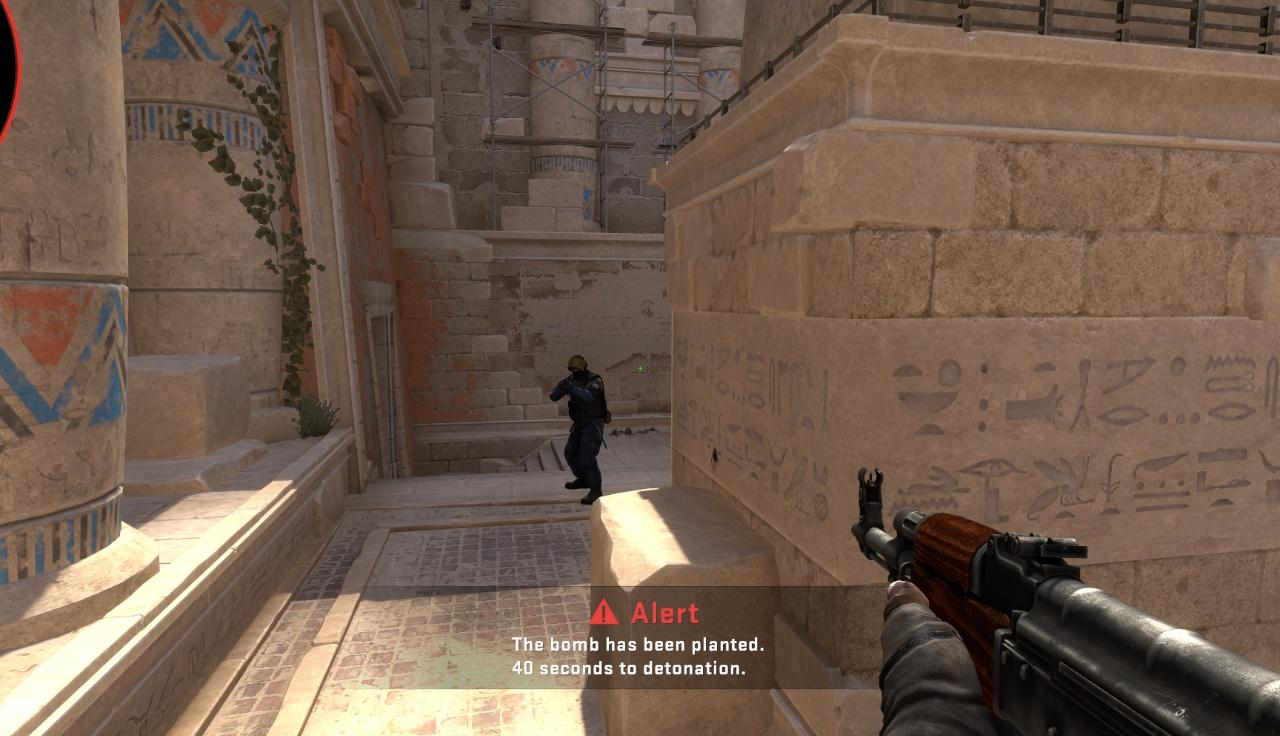ct: (560, 357, 604, 499)
cthead: (568, 355, 587, 379)
rifle: (849, 463, 1280, 736)
